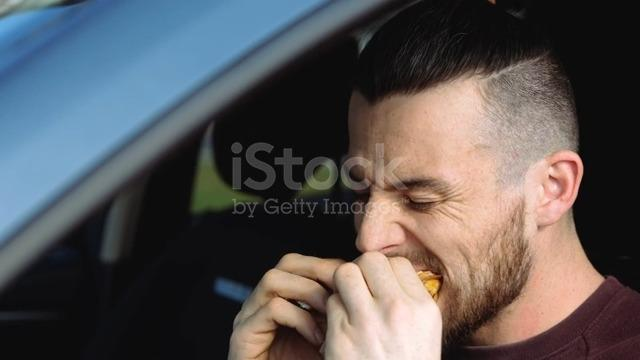Eating: (228, 31, 582, 360)
